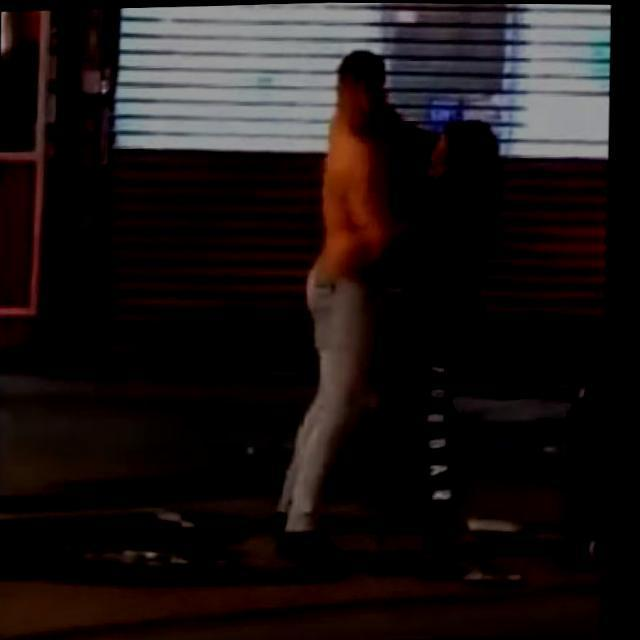fight: (264, 42, 522, 566)
